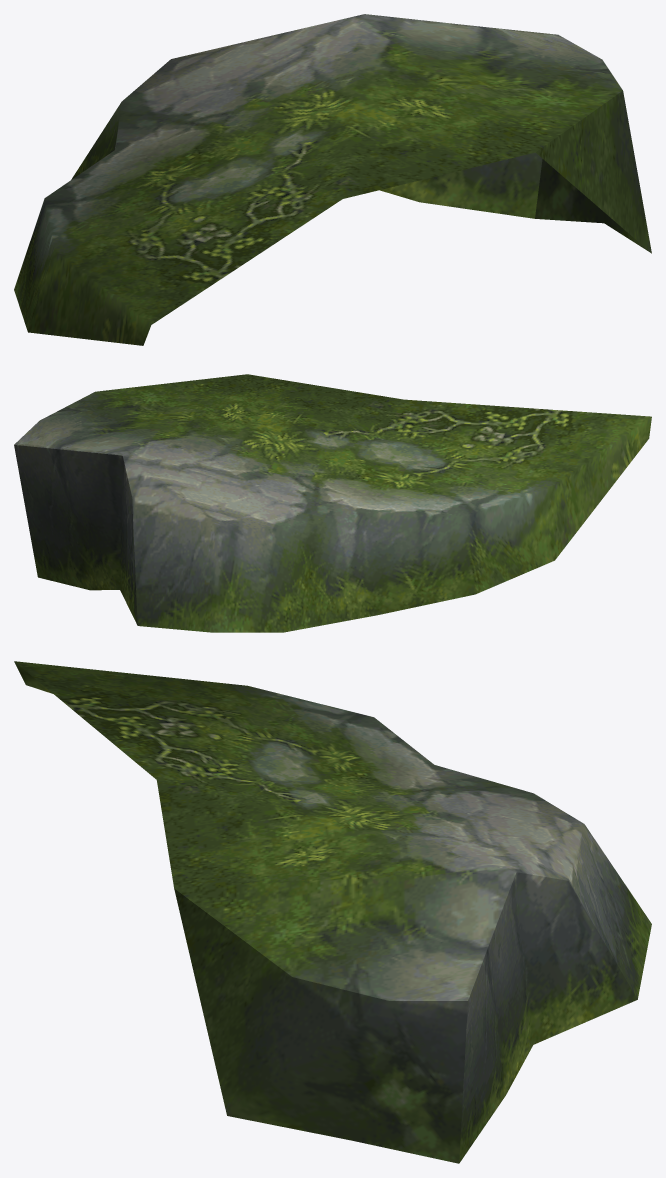
Rendered from yj_shitou_2.FBX.
3 renders of one model, top to bottom at view 1: azimuth 30°, elevation 25°; view 2: azimuth 150°, elevation 25°; view 3: azimuth 270°, elevation 25°, orthographic. The views are drawn at different scales.
Parts seen in each view (by area): view 1: yj_shitou_2; view 2: yj_shitou_2; view 3: yj_shitou_2.
Boxes of the visible parts, x1,y1,x2,y2 form: yj_shitou_2: [14, 14, 651, 345]; yj_shitou_2: [14, 374, 651, 632]; yj_shitou_2: [14, 661, 651, 1163].
Bounding box in the file's own units: 4269 × 1398 × 3651.
